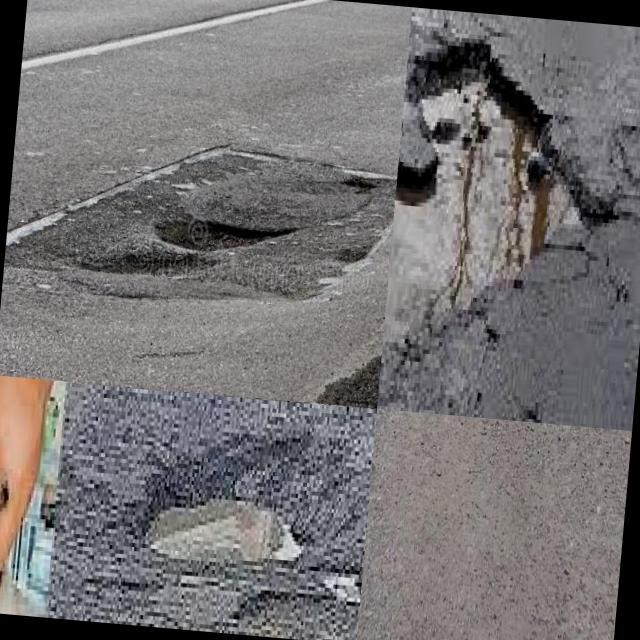Pothole: (382, 36, 582, 349), (148, 498, 299, 566), (150, 220, 298, 268), (117, 256, 144, 271)
